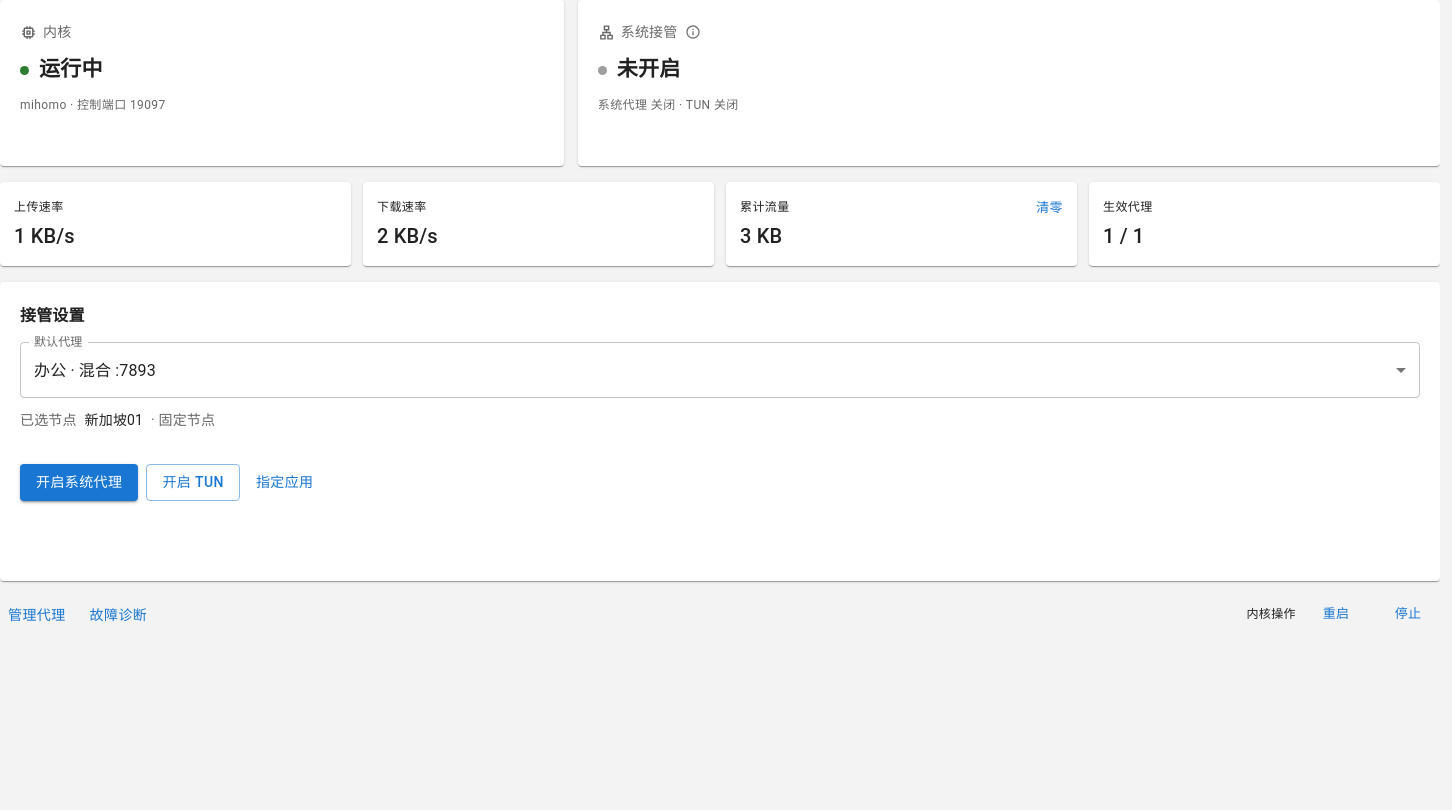
keeps capture unconfirmed and blocks duplicate operations while enabling
Step 1. Click the button "开启系统代理" → coordinates (79, 482), box top-left (20, 464), bottom-right (138, 500)
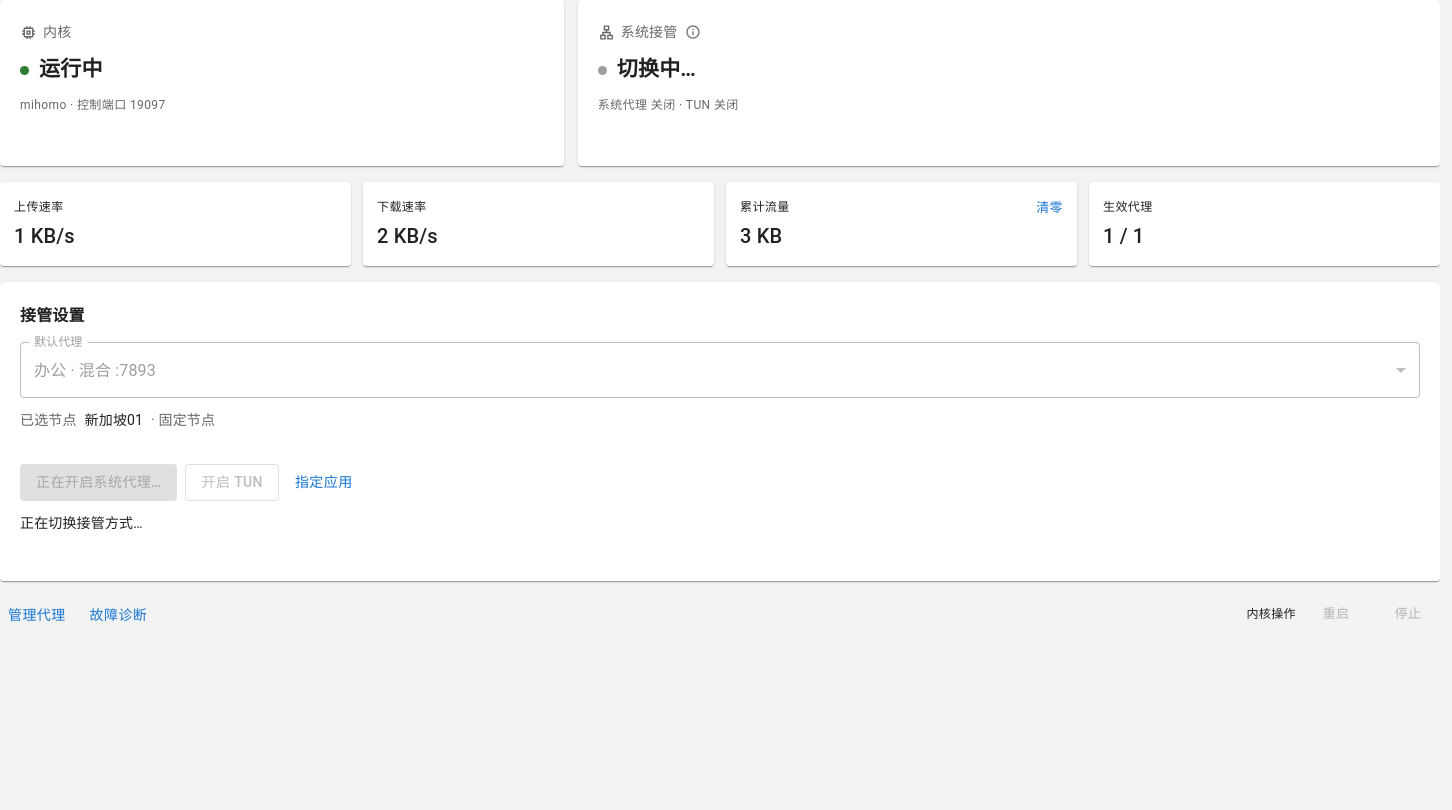
Expected: the text "系统代理已开启" is not shown
Result: the button "正在开启系统代理…" is disabled
Result: the button "开启 TUN" is disabled at top-left (186, 464), bottom-right (279, 500)
Step 2. Click the button "正在开启系统代理…" → coordinates (99, 482), box top-left (20, 464), bottom-right (178, 500)
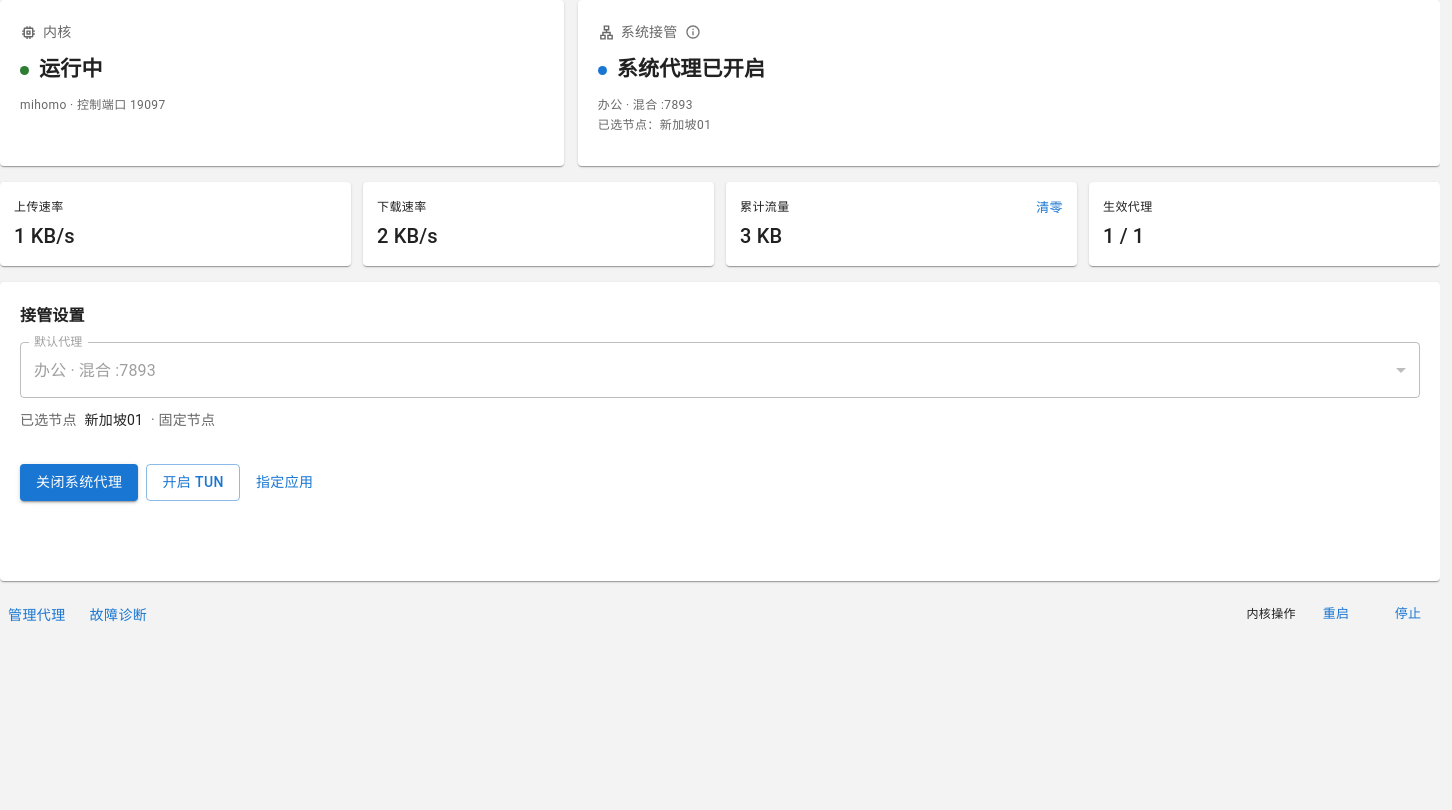
Result: the text "系统代理已开启" is shown at top-left (617, 54), bottom-right (765, 86)
